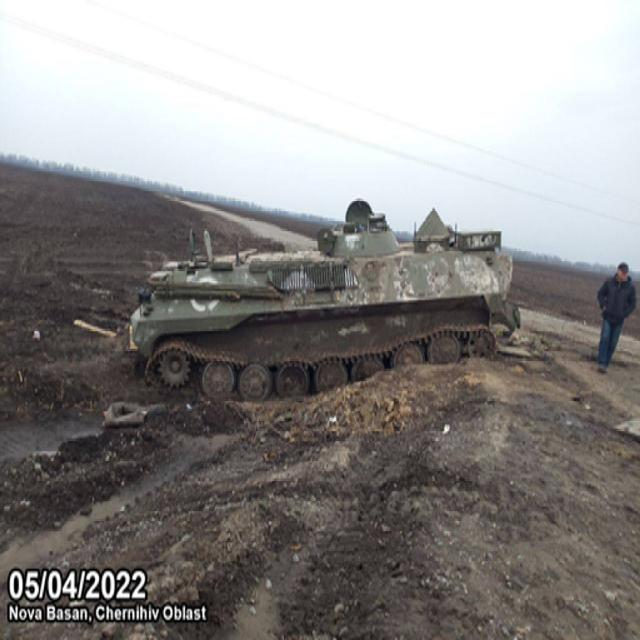APC-IFV: (128, 196, 518, 407)
